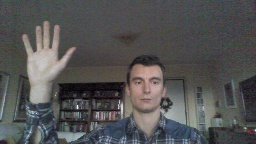Mano_aperta: (19, 19, 77, 87)
